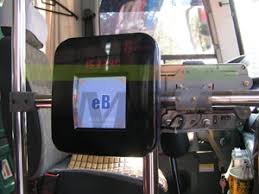terminal: (51, 32, 164, 158)
